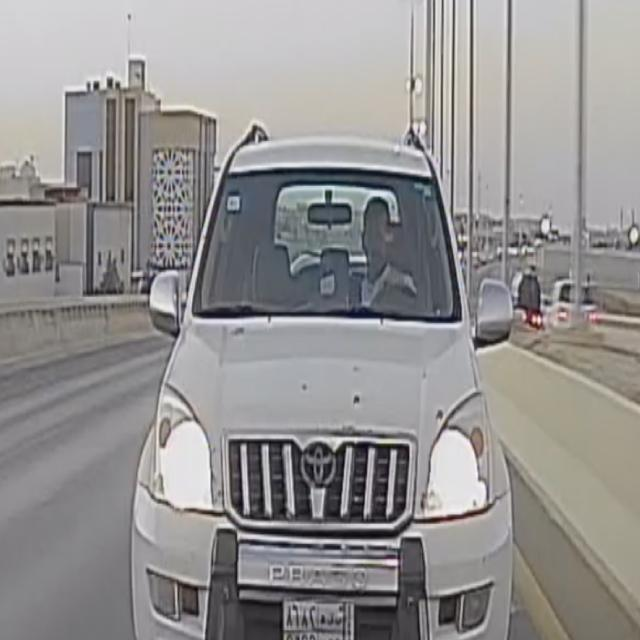person_without_seatbelt: (346, 207, 419, 317)
